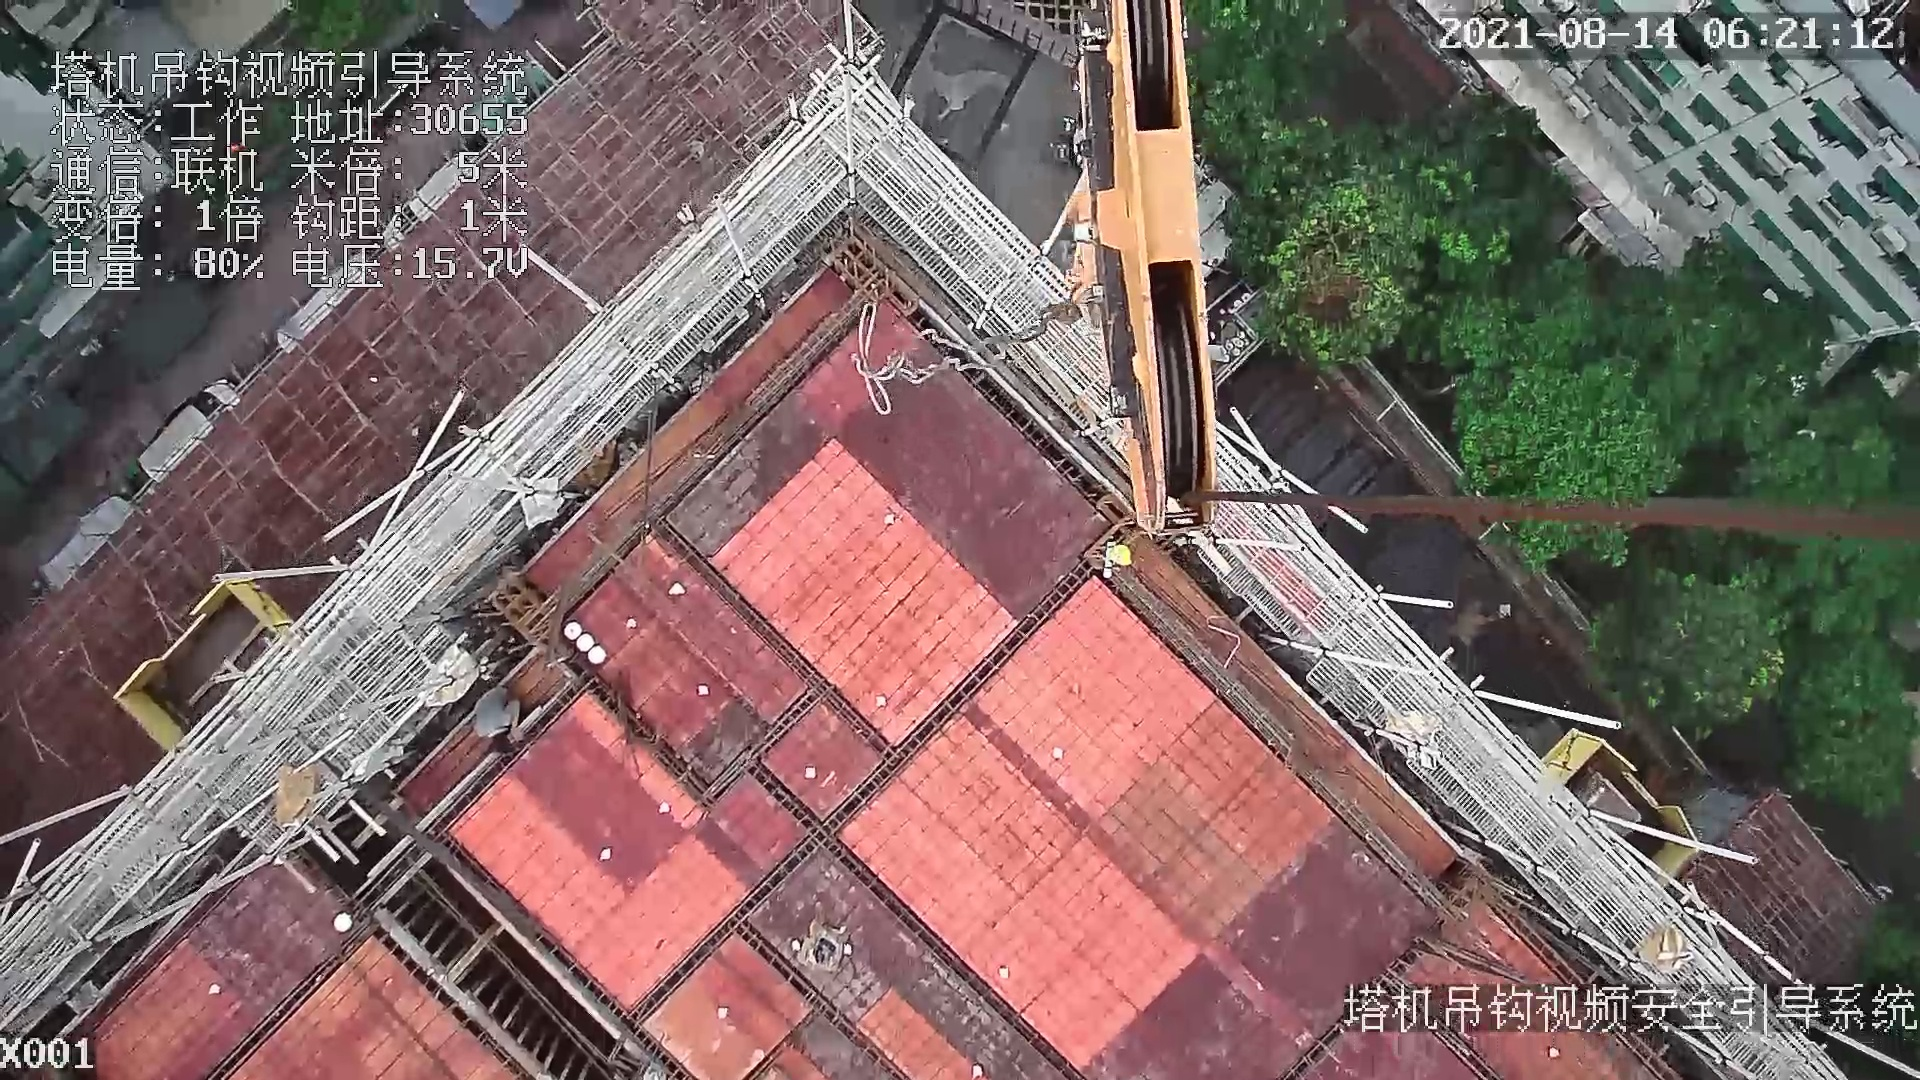helmet: (1104, 538, 1139, 574)
hook: (1080, 1, 1218, 538)
